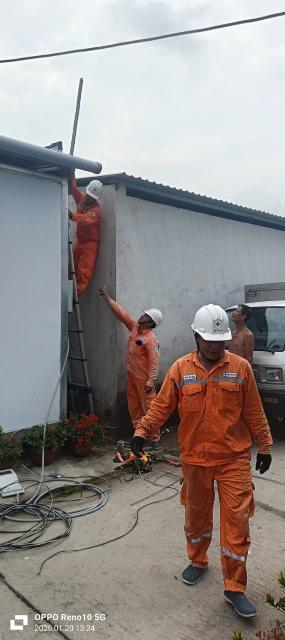gloves: (122, 429, 151, 459), (254, 447, 273, 476)
helmet: (187, 302, 234, 345), (139, 304, 168, 328), (82, 176, 106, 200)
shoes: (220, 585, 257, 623), (176, 562, 213, 589)
